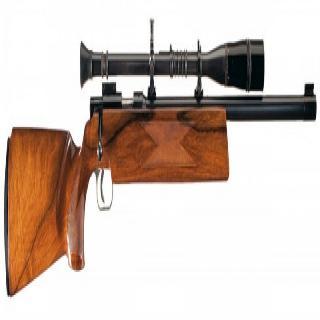gun: (5, 7, 309, 306)
